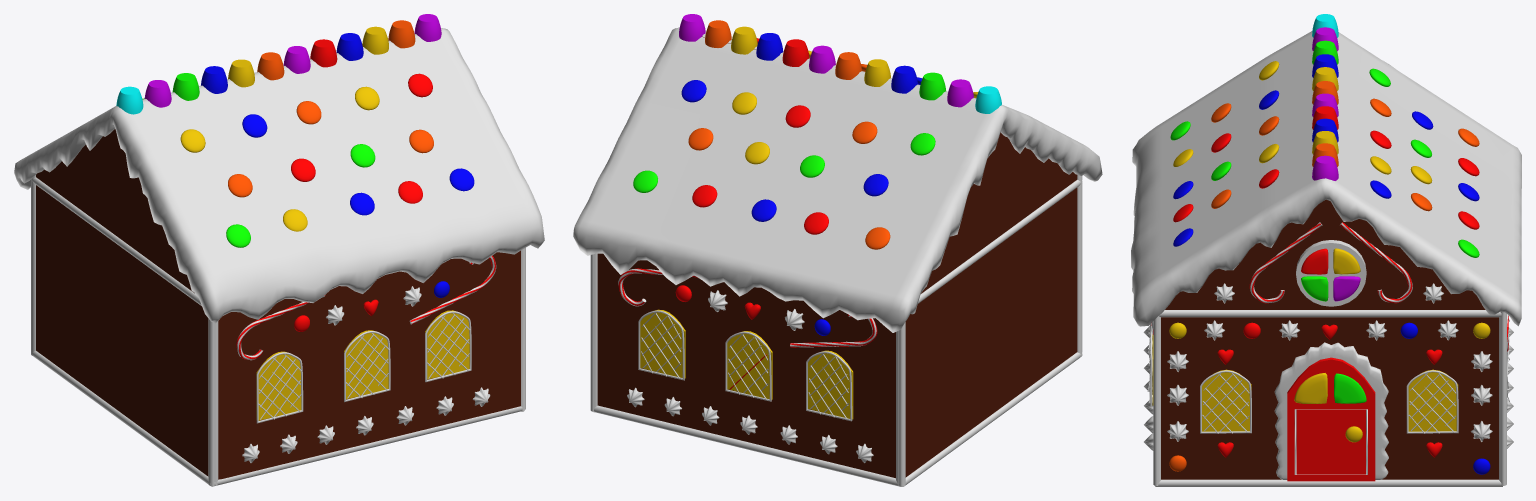
The model's file is ginger_bread_house.FBX.
3 renders of one model, left to right at view 1: azimuth 30°, elevation 25°; view 2: azimuth 150°, elevation 25°; view 3: azimuth 270°, elevation 25°, orthographic. The views are drawn at different scales.
Visible parts, largest first — view 1: Plane001, Box005, Box016, Box018, Box017, Cylinder018, Cylinder014, Cylinder013, Cylinder011, Cylinder012, Cylinder015, Cylinder025 (+12 smaller); view 2: Plane001, Box005, Cylinder022, Box013, Box014, Box015, Cylinder014, Cylinder013, Cylinder012, Cylinder011, Cylinder020, Cylinder008 (+14 smaller); view 3: Plane001, Box005, Box006, Box010, Cylinder009, Cylinder010, Box009, Box012, Cylinder002, Cylinder016, Cylinder020, Cylinder008 (+13 smaller).
Boxes of the visible parts, x1,y1,x2,y2 form: Plane001: (14, 28, 544, 323); Box005: (36, 129, 520, 479); Box016: (256, 351, 301, 420); Box018: (425, 310, 469, 379); Box017: (344, 330, 388, 399); Cylinder018: (214, 406, 522, 486); Cylinder014: (32, 351, 213, 486); Cylinder013: (32, 177, 201, 305); Cylinder011: (208, 318, 214, 486); Cylinder012: (31, 175, 35, 355); Cylinder015: (214, 321, 218, 485); Cylinder025: (388, 20, 415, 48); Plane001: (573, 27, 1102, 332); Box005: (597, 36, 1077, 478); Cylinder022: (593, 405, 900, 486); Box013: (640, 309, 685, 378); Box014: (727, 331, 772, 399); Box015: (808, 350, 853, 419); Cylinder014: (903, 352, 1082, 486); Cylinder013: (918, 180, 1082, 303); Cylinder012: (899, 322, 905, 486); Cylinder011: (1077, 175, 1082, 357); Cylinder020: (590, 253, 597, 410); Cylinder008: (591, 254, 594, 411); Plane001: (1131, 31, 1521, 326); Box005: (1161, 199, 1498, 479); Box006: (1287, 357, 1375, 481); Box010: (1274, 342, 1388, 479); Cylinder009: (1159, 310, 1501, 317); Cylinder010: (1155, 479, 1502, 486); Box009: (1408, 369, 1458, 431); Box012: (1202, 369, 1251, 431); Cylinder002: (1296, 240, 1366, 306); Cylinder016: (1153, 316, 1158, 485); Cylinder020: (1501, 312, 1505, 485); Cylinder008: (1499, 311, 1506, 484).
Bounding box in the file's own units: 10.9 × 10.22 × 11.2.
